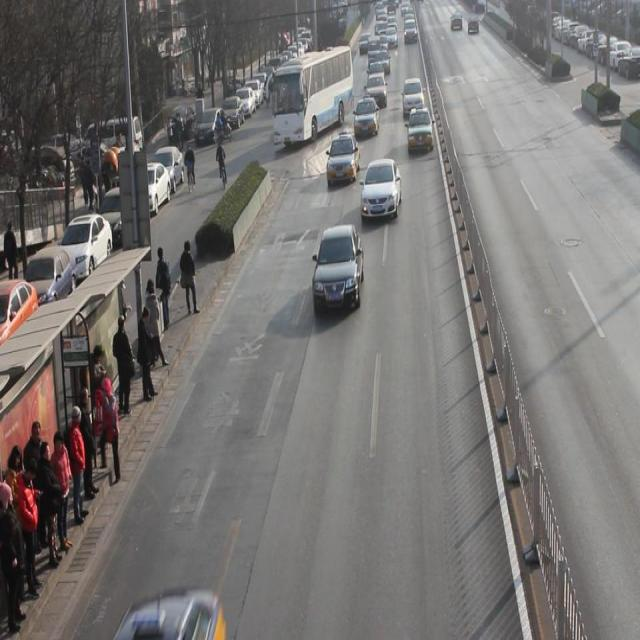car: (314, 224, 364, 313), (361, 157, 402, 220), (327, 134, 361, 184), (407, 105, 434, 152), (354, 96, 380, 135), (402, 76, 424, 118), (366, 72, 388, 107)
van: (272, 47, 354, 145)
